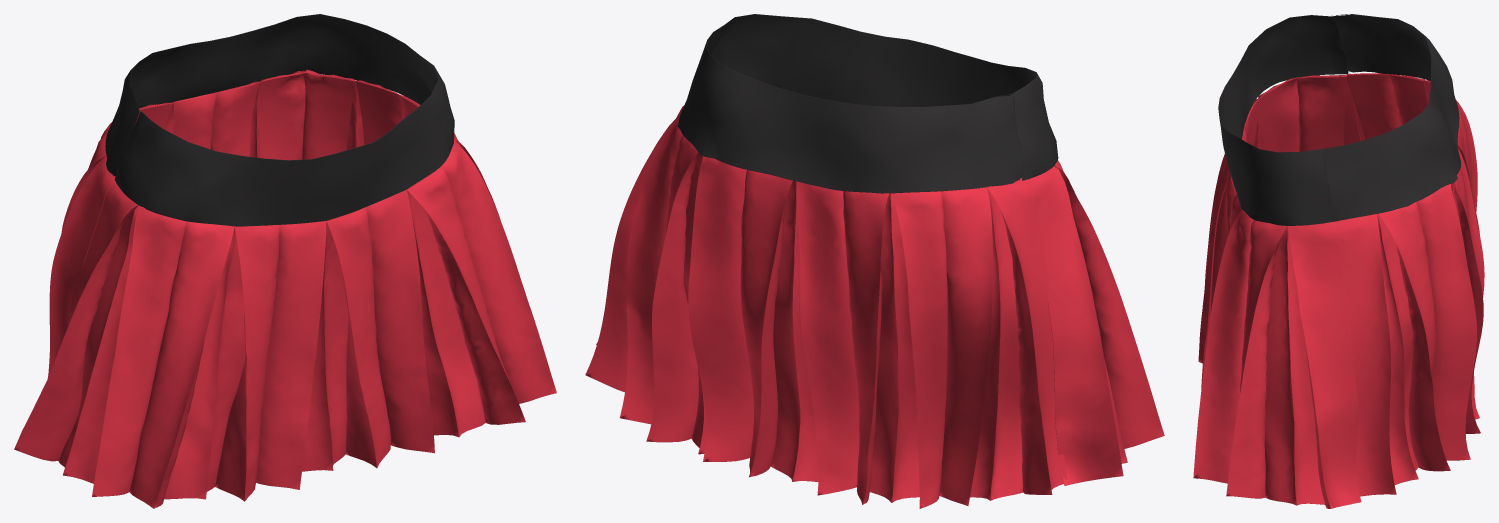
The model's file is mannequin-female-skirt.glb.
3 views of the same model, side by side, from view 1: azimuth 30°, elevation 25°; view 2: azimuth 150°, elevation 25°; view 3: azimuth 270°, elevation 25° (orthographic). The views are drawn at different scales.
Visible parts, largest first — view 1: Pattern2D_194604, Pattern2D_194603, Pattern2D_194606, Pattern2D_194605; view 2: Pattern2D_194606, Pattern2D_194605, Pattern2D_194604, Pattern2D_194603; view 3: Pattern2D_194604, Pattern2D_194606, Pattern2D_194605, Pattern2D_194603.
Part boxes in pixels (left/top/right/bottom): Pattern2D_194604: left=14, top=133, right=556, bottom=508; Pattern2D_194603: left=114, top=55, right=454, bottom=226; Pattern2D_194606: left=47, top=69, right=420, bottom=378; Pattern2D_194605: left=105, top=14, right=431, bottom=179; Pattern2D_194606: left=585, top=106, right=1066, bottom=508; Pattern2D_194605: left=677, top=25, right=1024, bottom=193; Pattern2D_194604: left=596, top=160, right=1164, bottom=485; Pattern2D_194603: left=710, top=14, right=1058, bottom=180; Pattern2D_194604: left=1193, top=75, right=1361, bottom=508; Pattern2D_194606: left=1335, top=73, right=1484, bottom=496; Pattern2D_194605: left=1323, top=14, right=1460, bottom=221; Pattern2D_194603: left=1218, top=15, right=1348, bottom=225.
Size of the model in its own units: 0.8842 by 0.6074 by 0.465.
